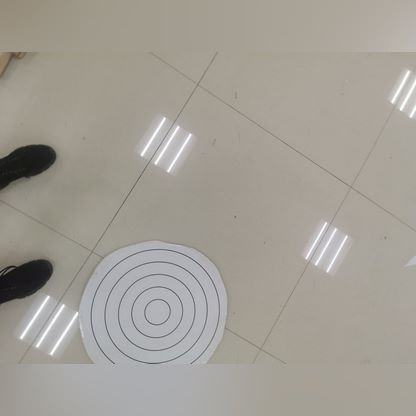circle: (75, 241, 226, 370)
